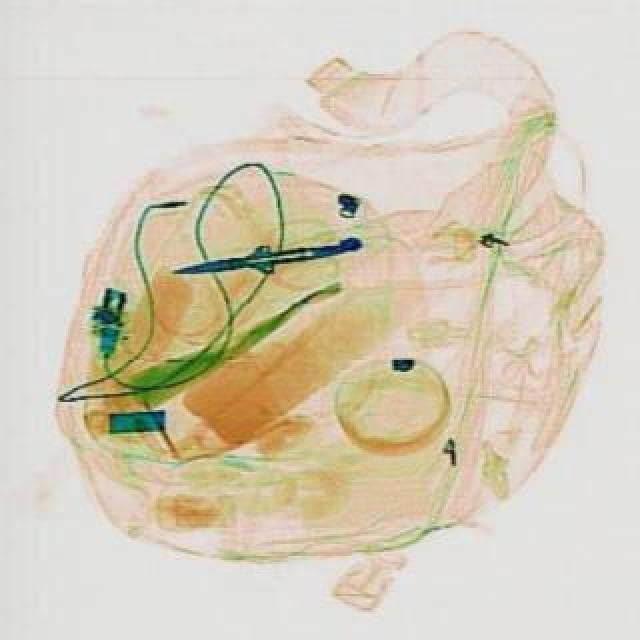knife: (166, 232, 336, 286)
